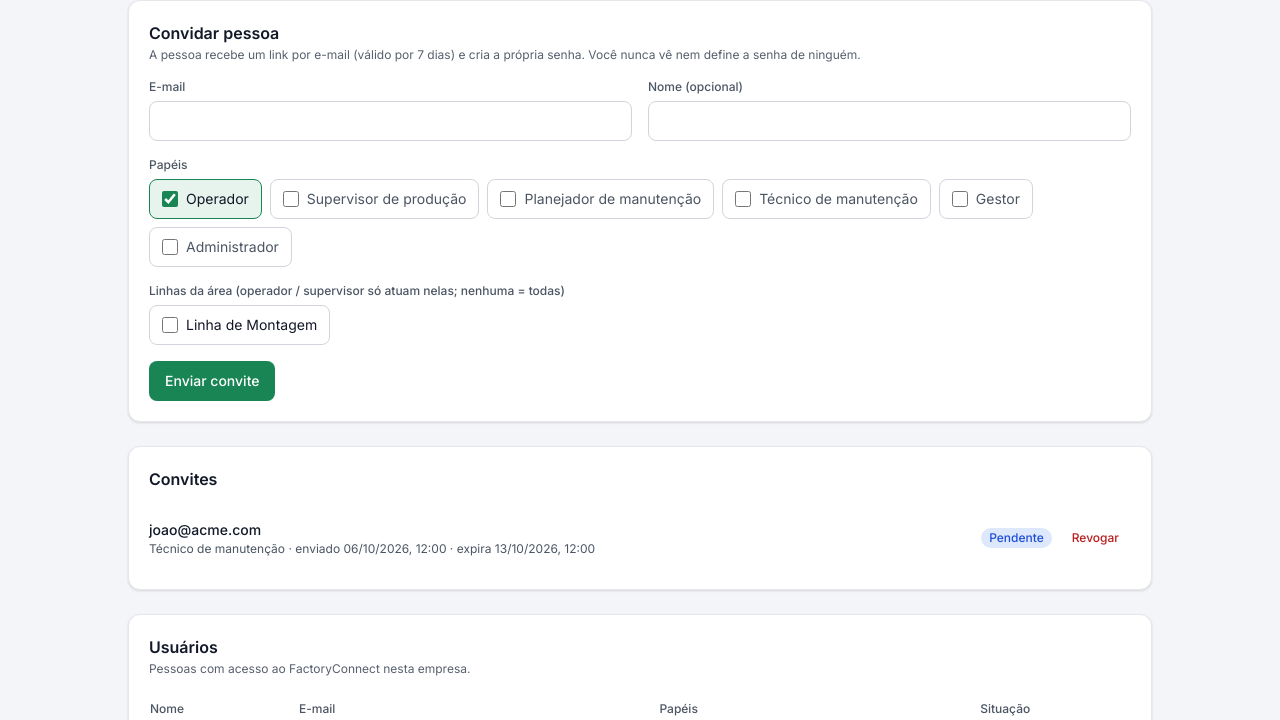
it: Usuários e convites (admin) › invites with roles and lines (operator) and shows the one-time link
The width and height of the screenshot is (1280, 720).
In the field labelled "E-mail": coordinates (390, 121) x1=149 y1=101 x2=632 y2=141, type "op@acme.com"
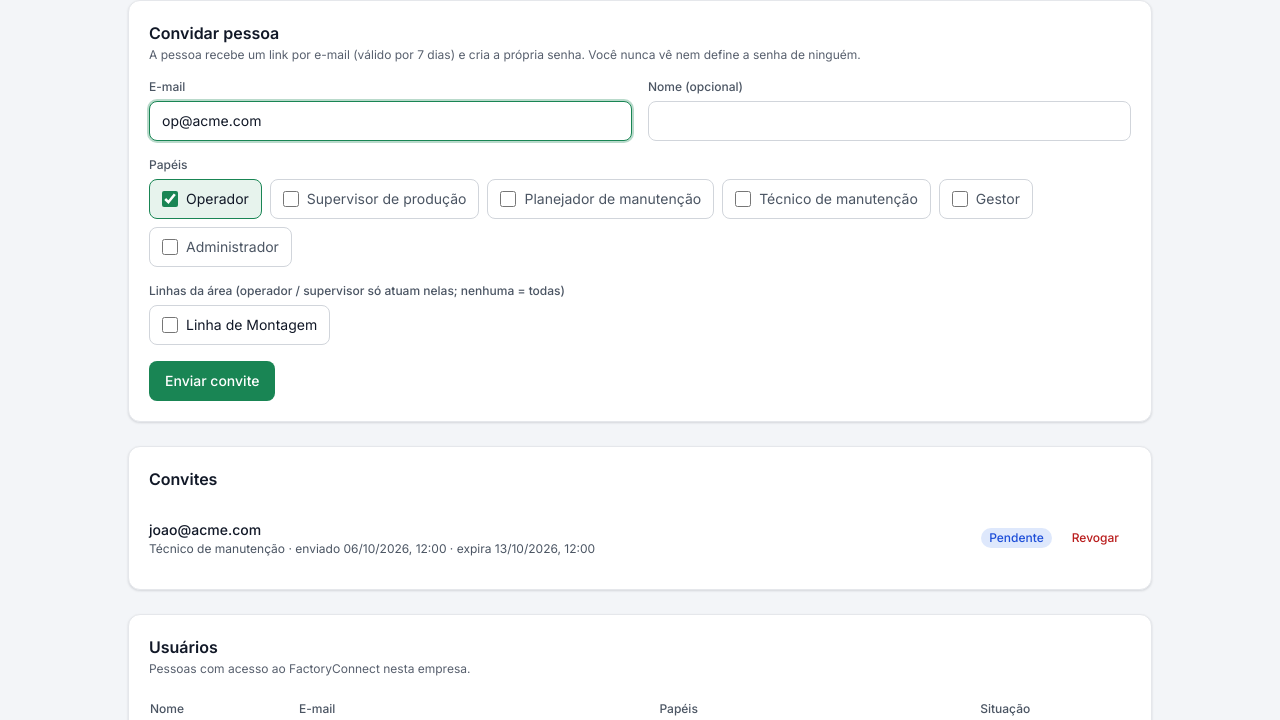
Click the checkbox labelled "Linha de Montagem": coordinates (170, 325) x1=162 y1=317 x2=178 y2=333
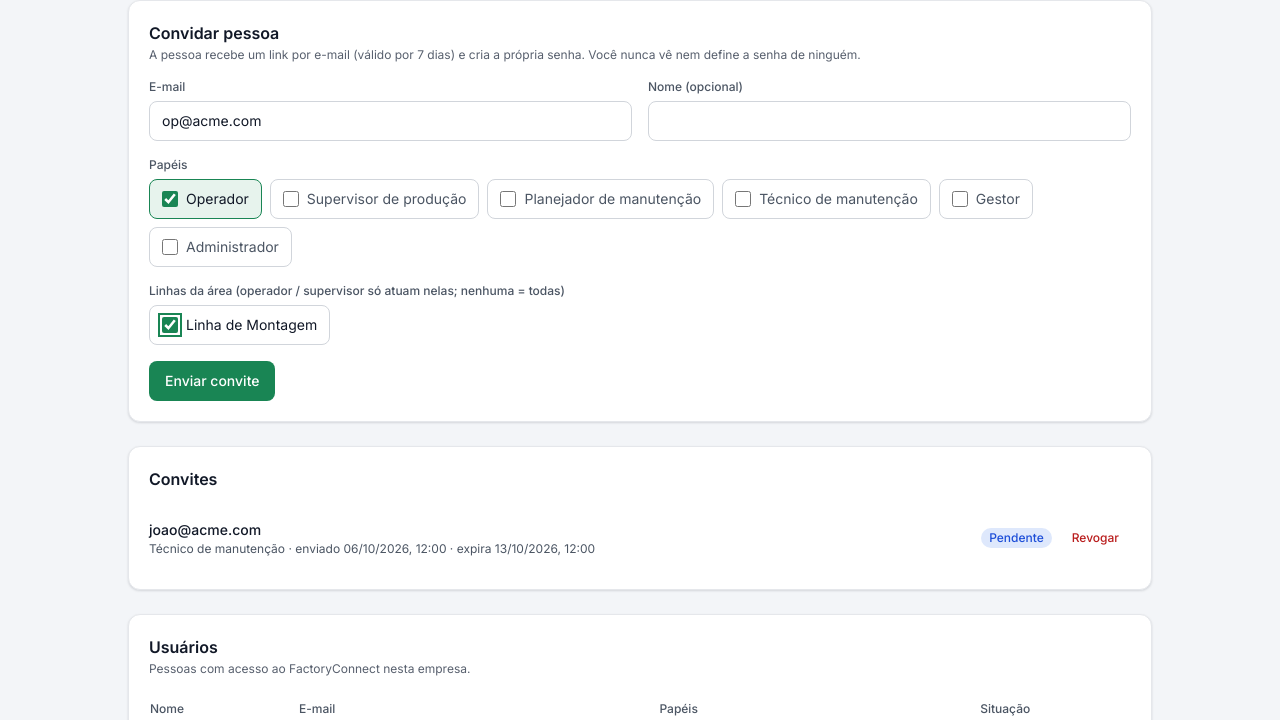
Click the button "Enviar convite": coordinates (212, 381) x1=149 y1=361 x2=276 y2=401
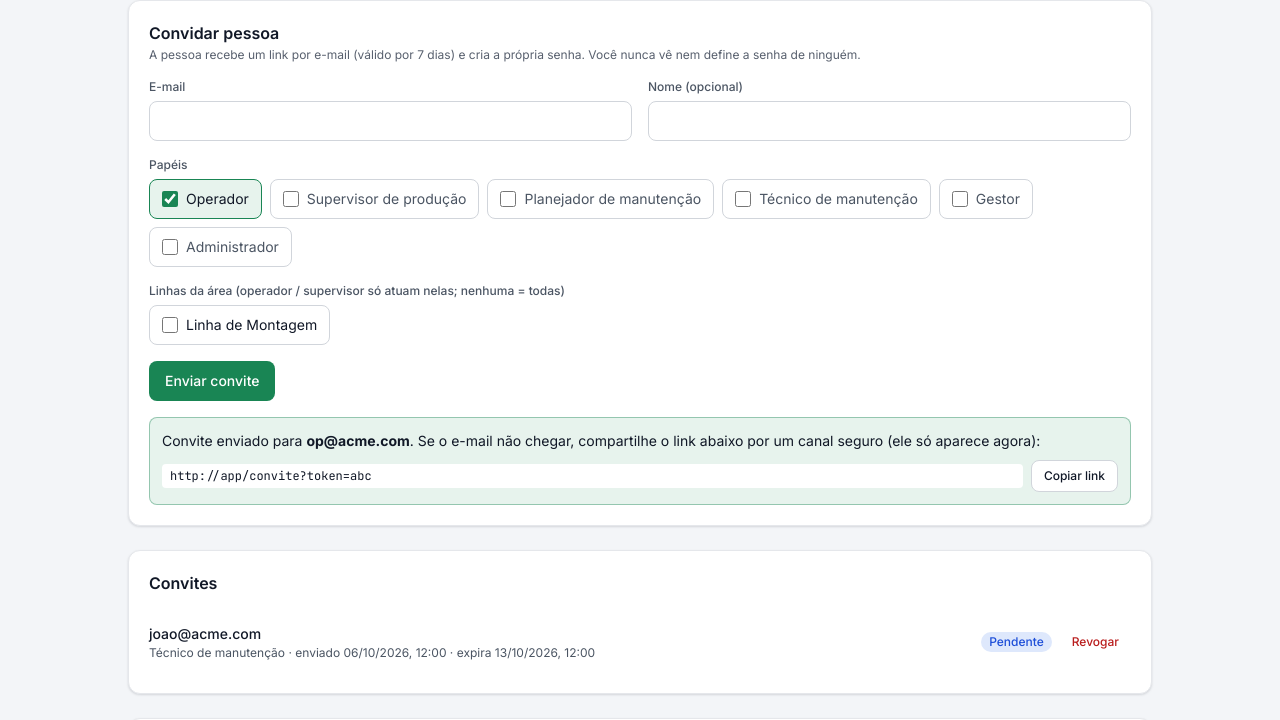
Check: the message with test id "invite-link" shows "http://app/convite?token=abc", box x1=170 y1=468 x2=372 y2=484
